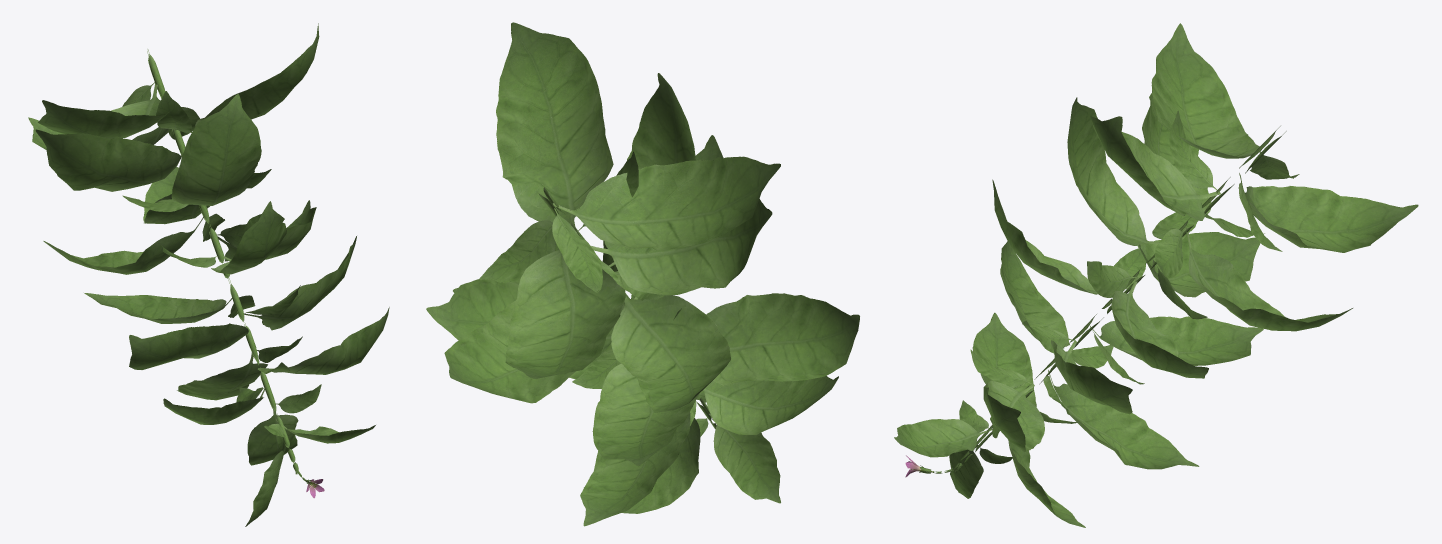
3 views of the same model, side by side, from view 1: azimuth 30°, elevation 25°; view 2: azimuth 150°, elevation 25°; view 3: azimuth 270°, elevation 25° (orthographic). The views are drawn at different scales.
Visible parts, largest first — view 1: AG13_7; view 2: AG13_7; view 3: AG13_7.
Part boxes in pixels (left/top/right/bottom): AG13_7: left=28, top=23, right=389, bottom=526; AG13_7: left=426, top=22, right=859, bottom=526; AG13_7: left=894, top=23, right=1418, bottom=527.
Size of the model in its own units: 0.527 by 0.7056 by 0.737.
3 materials, 3 textured.
